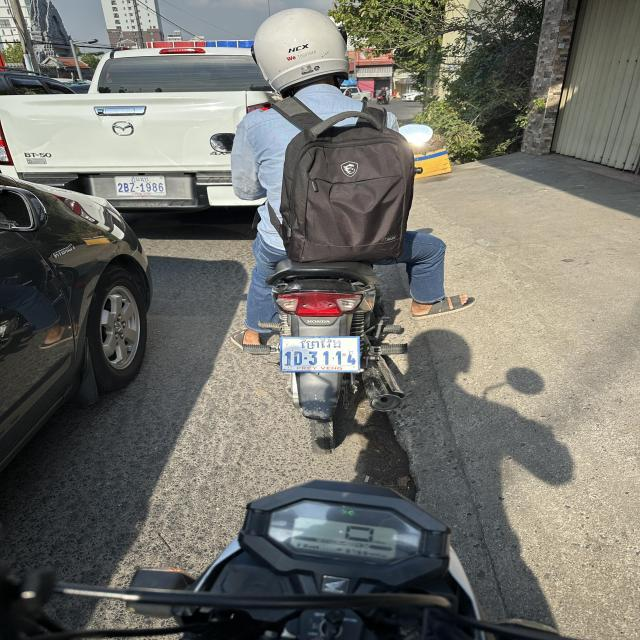Phnom_Penh: (130, 176, 150, 183)
Prey_Veng: (299, 338, 342, 350)
